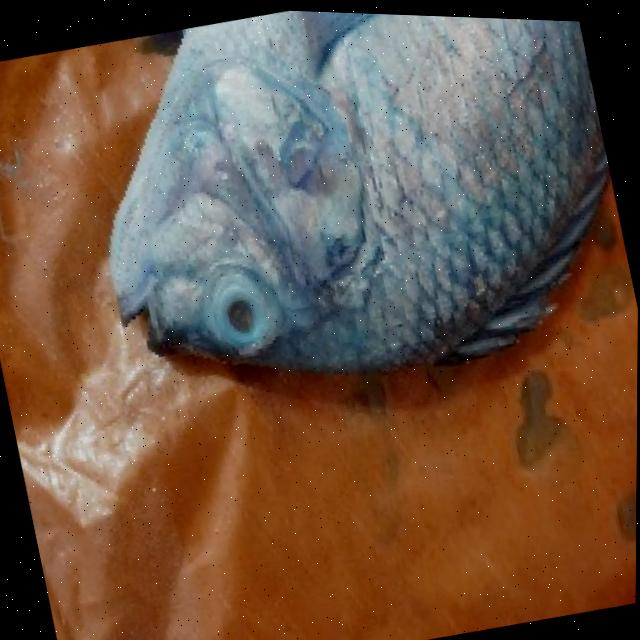Non-Fresh: (180, 247, 301, 371)
